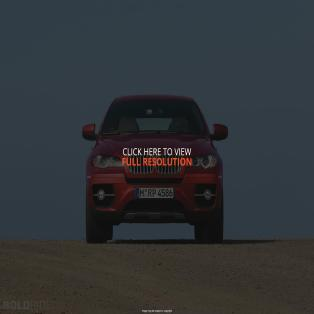Auto: (81, 93, 229, 244)
